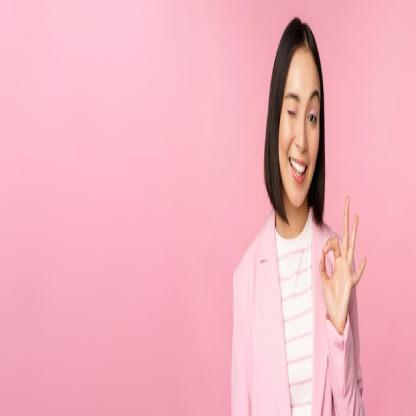ok: (318, 192, 367, 332)
